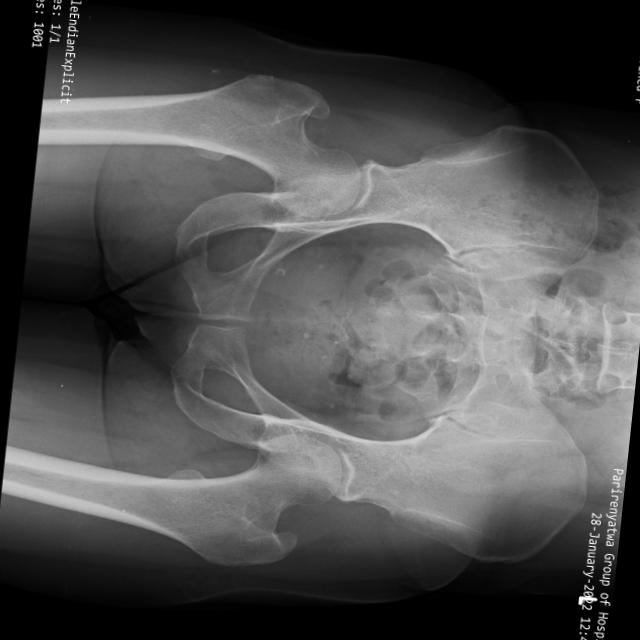normal-left: (0, 433, 341, 566)
normal-right: (81, 74, 359, 217)
